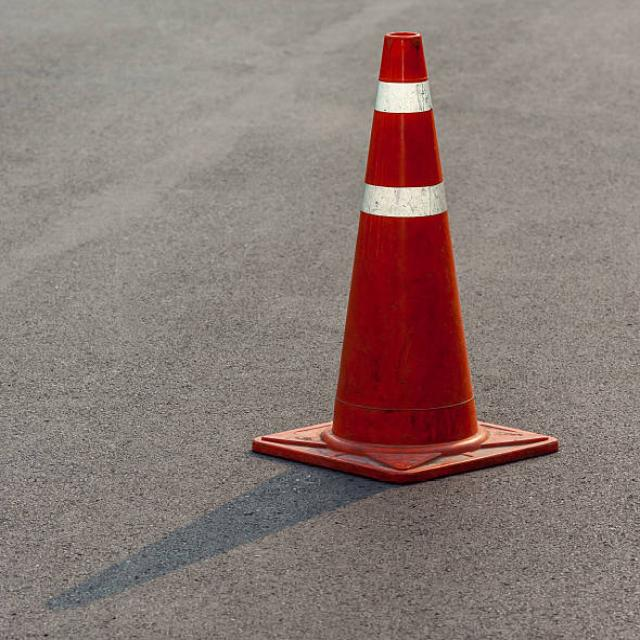Traffic Cone: (235, 1, 575, 496)
